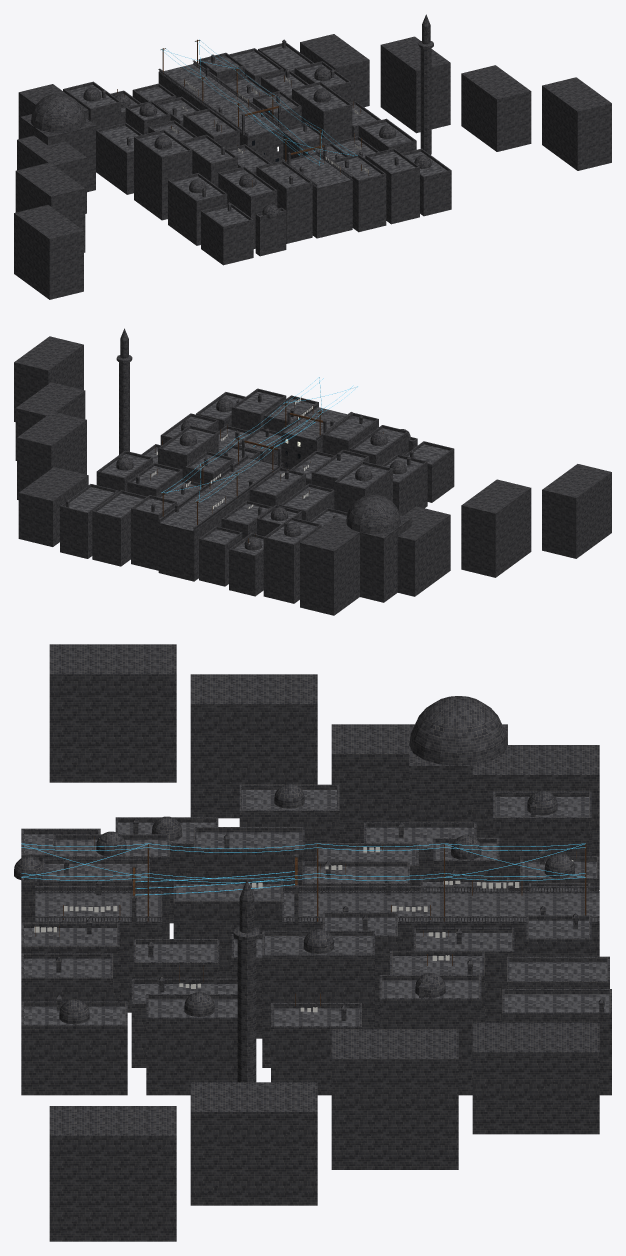
Rendered from RooftopModule.fbx.
The picture shows the model from 3 angles, top to bottom: view 1: azimuth 30°, elevation 25°; view 2: azimuth 150°, elevation 25°; view 3: azimuth 270°, elevation 25°; orthographic projection. The views are drawn at different scales.
Visible parts, largest first — view 1: Roof_City, Roof_Route, Roof_Neon; view 2: Roof_City, Roof_Route, Roof_Neon; view 3: Roof_City, Roof_Route, Roof_Neon.
Boxes of the visible parts, <box> form: Roof_City: <box>14,14,611,299</box>; Roof_Route: <box>158,39,352,238</box>; Roof_Neon: <box>161,39,357,165</box>; Roof_City: <box>14,328,611,615</box>; Roof_Route: <box>158,403,352,581</box>; Roof_Neon: <box>161,377,357,502</box>; Roof_City: <box>14,644,611,1241</box>; Roof_Route: <box>35,843,599,1012</box>; Roof_Neon: <box>21,843,585,895</box>.
Bounding box in the file's own units: 164 × 39.2 × 84.8.
